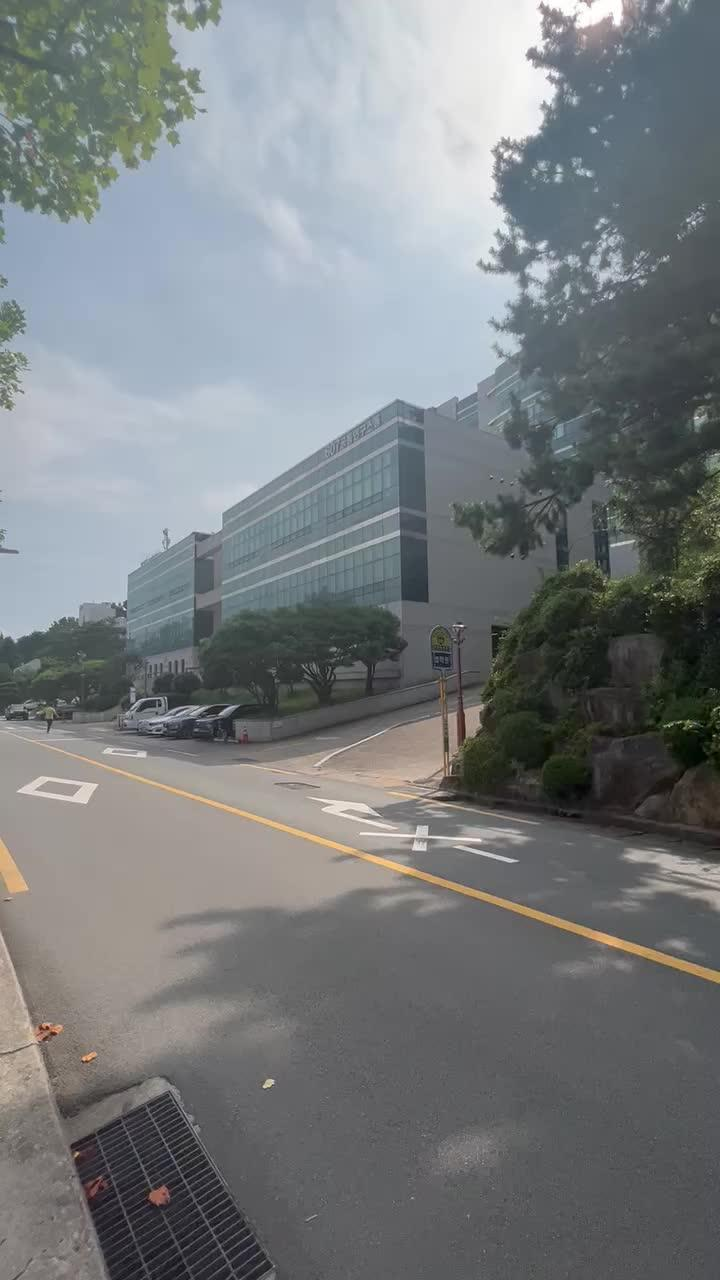building: (122, 378, 488, 626)
